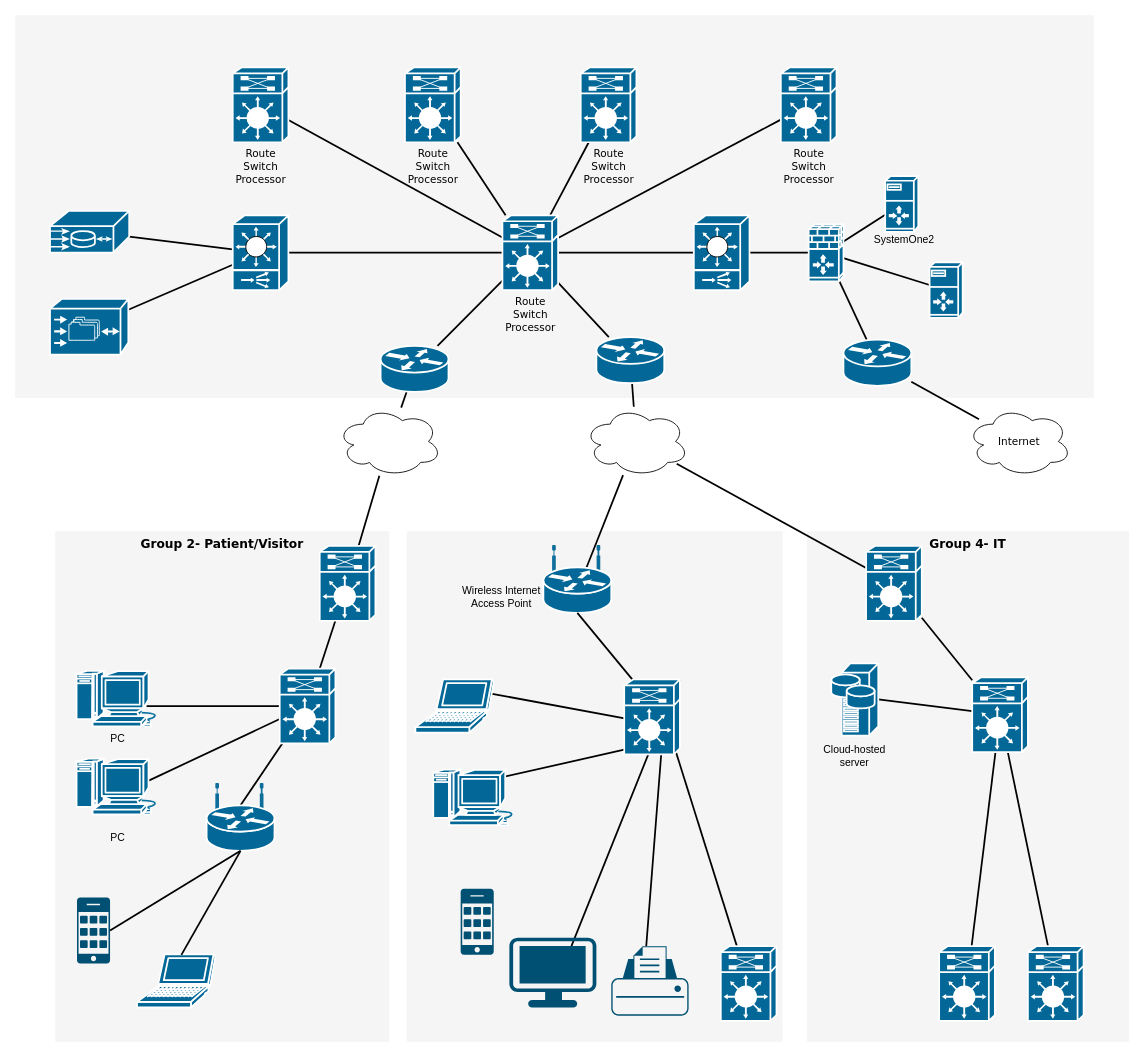
The diagram is 1143 pixels wide and 1056 high, and some of its shapes have lost their labels. The shapes that lost their labels are listed below. From the top down, each one's box as (x1, y1, x2, y2) in pixels, then its label:
(15, 15, 1094, 398): GP surgery- 3 doctors and Healthcare professional teams
(336, 406, 442, 476): LAN
(583, 406, 689, 476): Cloud
(406, 531, 782, 1041): Group 3- Staff
